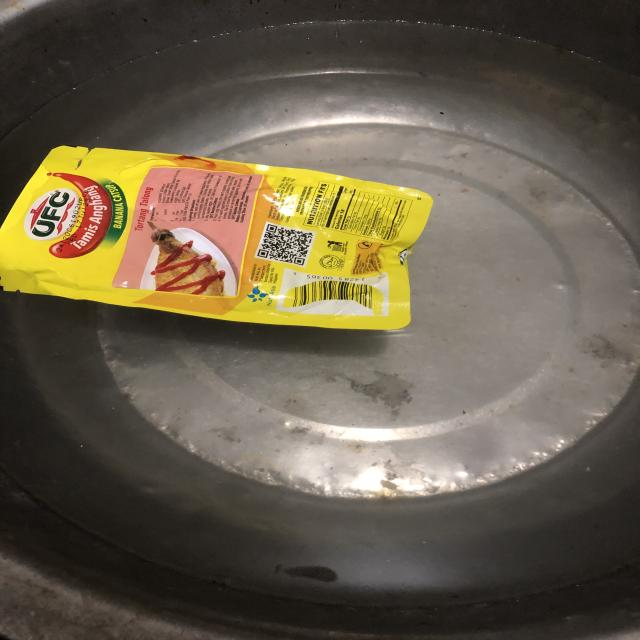Plastic Pouch: (0, 124, 466, 351)
